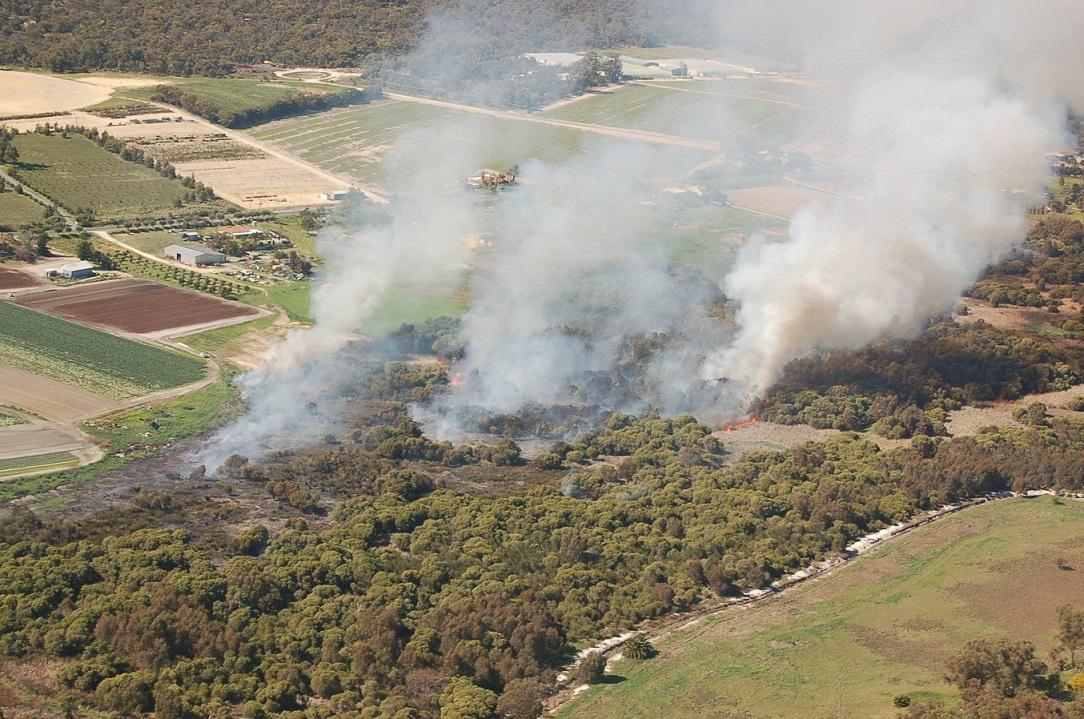smoke: (826, 16, 1010, 246), (502, 190, 672, 390), (756, 256, 932, 334), (322, 234, 460, 320)
